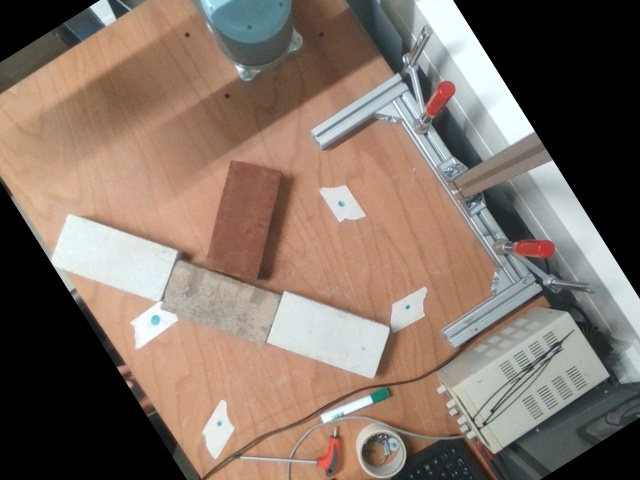brick: (51, 213, 176, 301), (159, 261, 278, 343), (268, 296, 386, 375), (204, 161, 279, 279)
